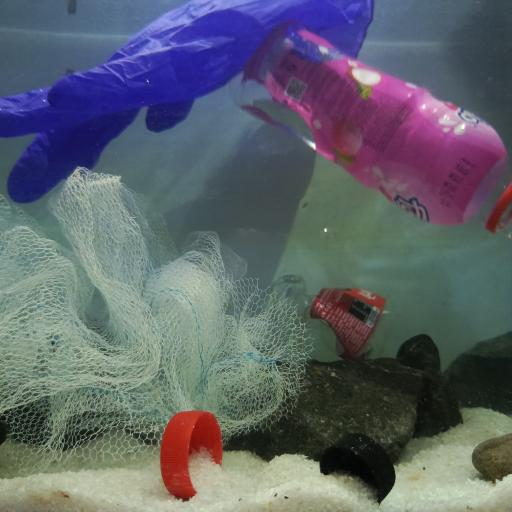bottle_cap: (160, 408, 226, 497), (318, 432, 397, 506)
glove: (2, 0, 376, 202)
net: (2, 165, 313, 470)
plastic_bottle: (234, 18, 512, 236), (270, 273, 413, 358)
